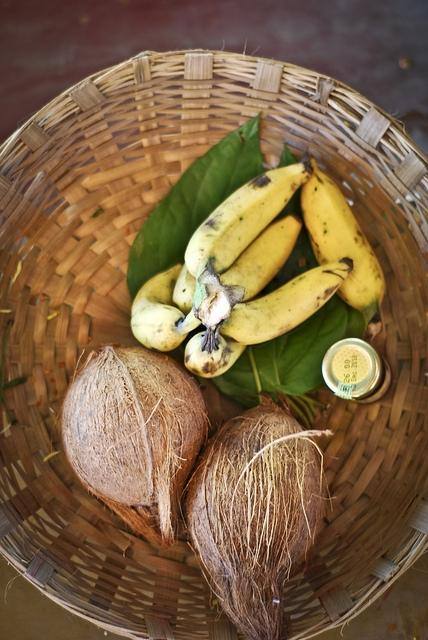banana: (184, 158, 313, 283), (301, 156, 387, 338), (220, 257, 355, 345), (220, 214, 303, 302), (131, 262, 202, 353), (184, 331, 246, 379), (172, 262, 196, 314)
